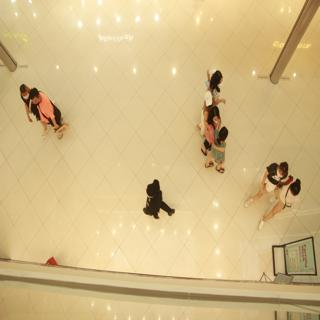person: (134, 172, 184, 230), (30, 84, 76, 138), (252, 150, 288, 215), (198, 83, 222, 155), (272, 174, 300, 230), (210, 119, 232, 176), (11, 79, 41, 118)
